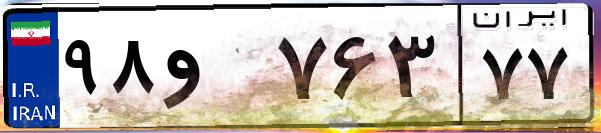3: (385, 28, 445, 110)
6: (330, 28, 385, 110)
7: (270, 28, 330, 110), (475, 38, 525, 113), (525, 38, 570, 115)
8: (110, 28, 158, 98)
9: (57, 26, 110, 100)
و: (158, 20, 270, 120)
